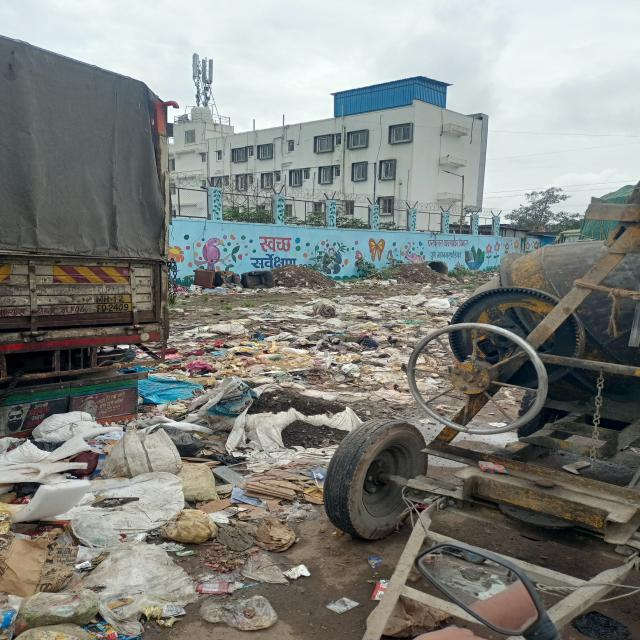garbage: (9, 401, 288, 635), (136, 296, 452, 400), (186, 265, 332, 295), (361, 262, 445, 288)
